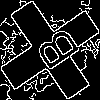B: (25, 25, 82, 78)
